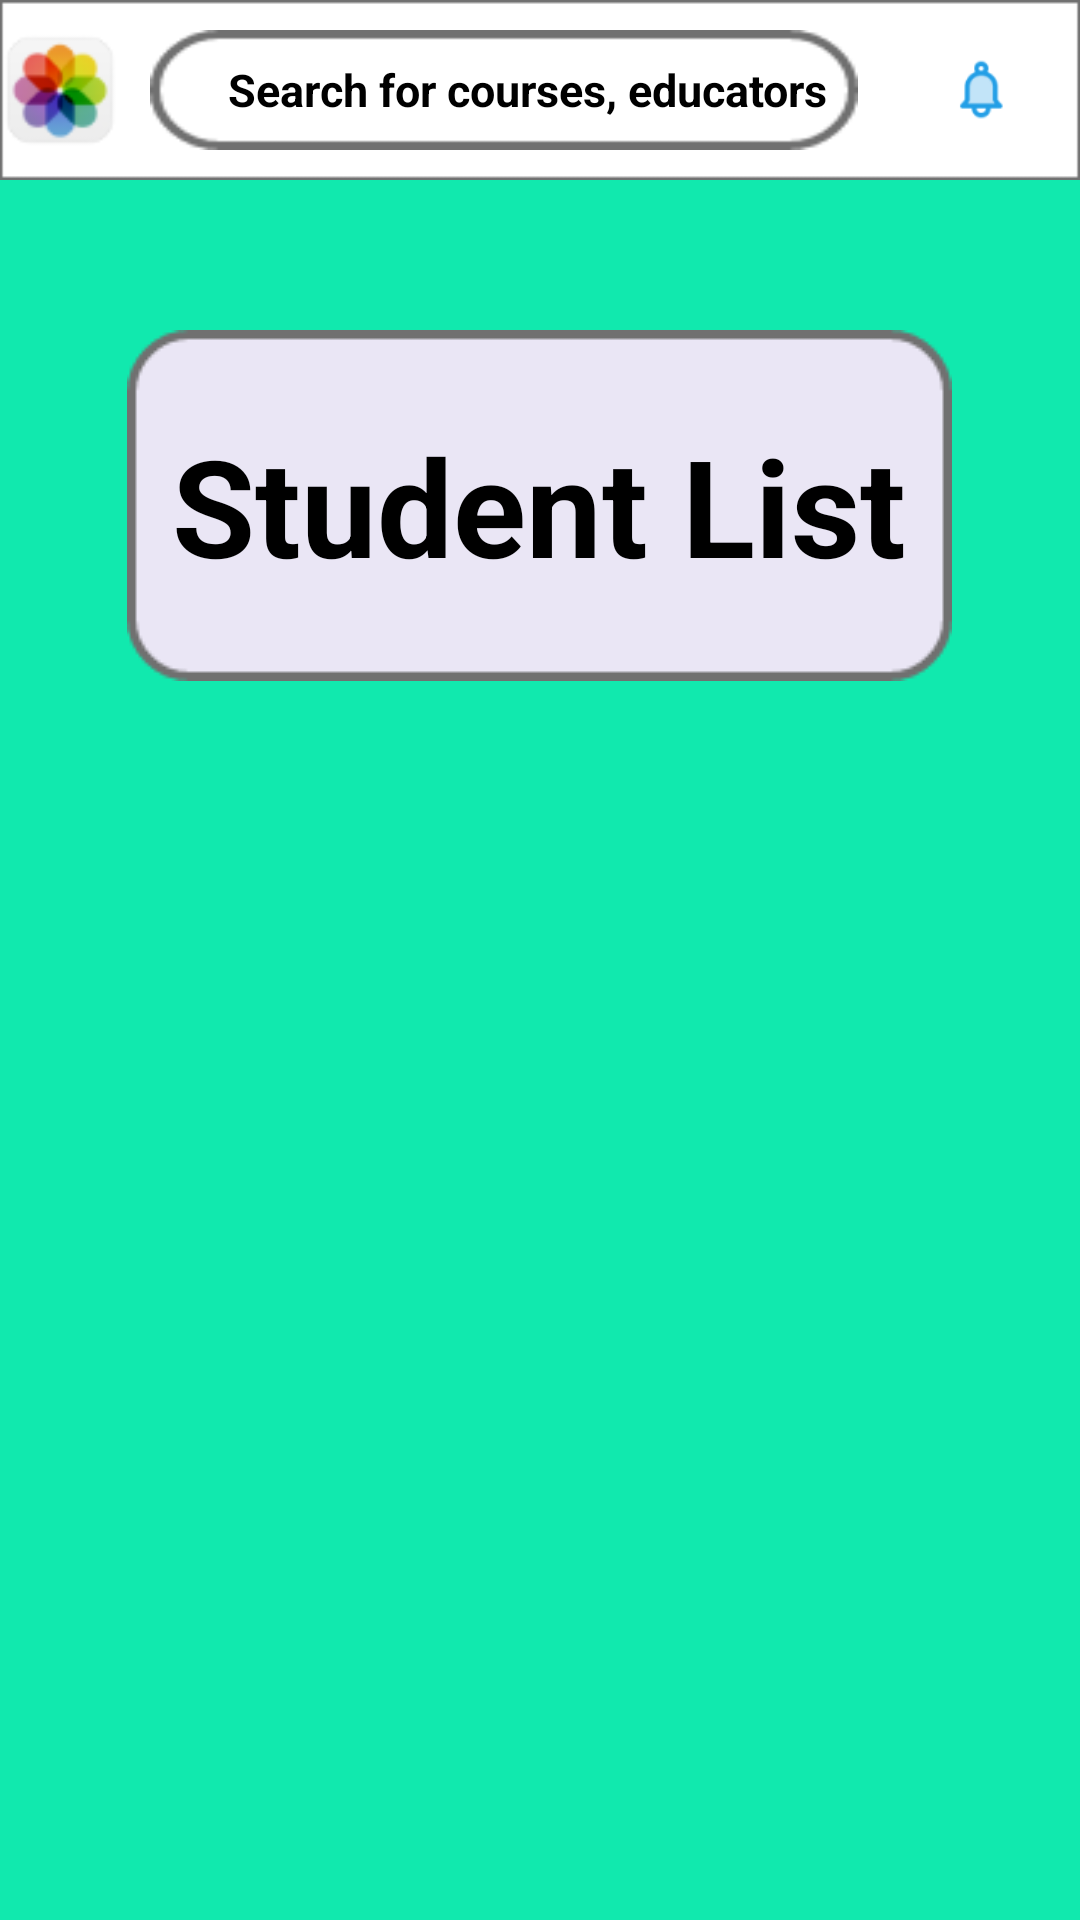

Where icons sit on this 1080 × 1920 app screen, as [left=x1, top=y1, right=x2, bottom=y2]:
bell: [left=960, top=60, right=1003, bottom=119]
